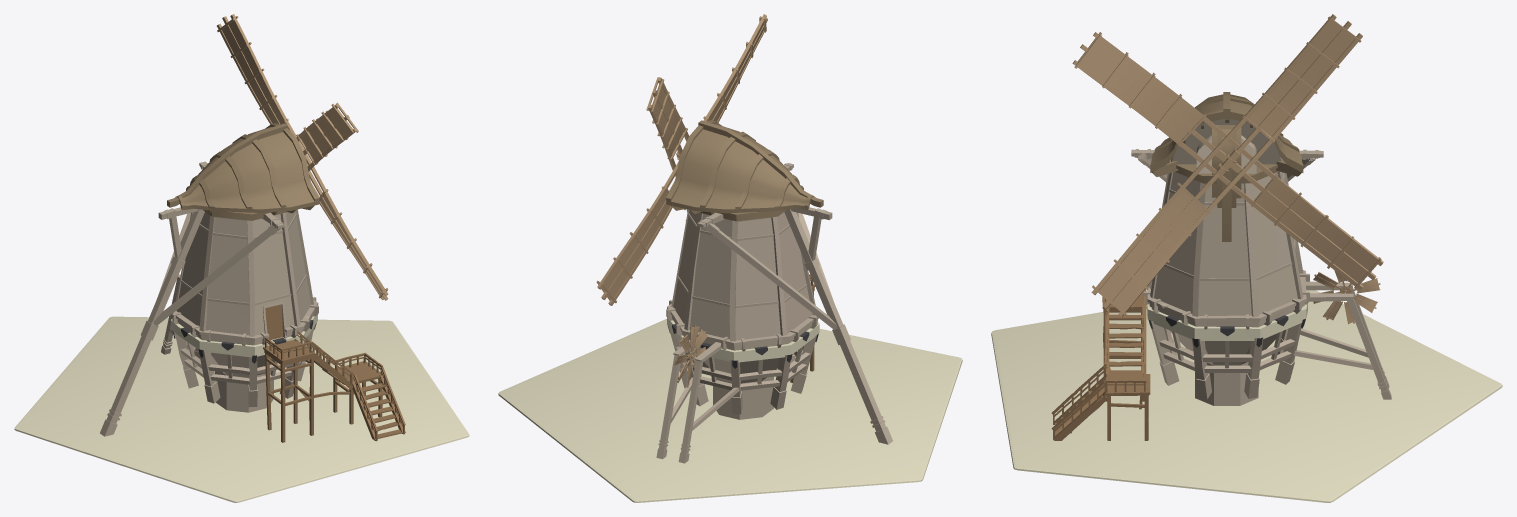
File: windmill.glb
3 views of the same model, side by side, from view 1: azimuth 30°, elevation 25°; view 2: azimuth 150°, elevation 25°; view 3: azimuth 270°, elevation 25° (orthographic). The views are drawn at different scales.
Parts seen in each view (by area): view 1: Cylinder004, Object020, 4erepiza, Box266, OporaEcht, Stolbi, Dach, Treppe 4, Object017, Object006, Treppe 1, Treppe2 (+7 smaller); view 2: Cylinder004, Object020, 4erepiza, Box266, OporaEcht, Stolbi, Dach, WEnt BOCk, Object017, Object006, Cylinder1, Object018 (+4 smaller); view 3: Cylinder004, Box266, Object020, Stolbi, Dach, WEnt BOCk, Object017, Object006, Cylinder1, Treppe 3, Treppe 1, Object018 (+7 smaller).
Boxes of the visible parts, x1=… form: Cylinder004: x1=14, y1=316, x2=469, y2=502; Object020: x1=176, y1=211, x2=311, y2=335; 4erepiza: x1=179, y1=127, x2=319, y2=212; Box266: x1=217, y1=14, x2=388, y2=300; OporaEcht: x1=100, y1=161, x2=283, y2=436; Stolbi: x1=174, y1=324, x2=315, y2=407; Dach: x1=167, y1=123, x2=319, y2=209; Treppe 4: x1=263, y1=337, x2=315, y2=442; Object017: x1=176, y1=209, x2=313, y2=336; Object006: x1=211, y1=352, x2=273, y2=412; Treppe 1: x1=352, y1=367, x2=405, y2=441; Treppe2: x1=333, y1=352, x2=382, y2=424; Cylinder004: x1=498, y1=319, x2=962, y2=502; Object020: x1=673, y1=210, x2=812, y2=340; 4erepiza: x1=666, y1=124, x2=810, y2=213; Box266: x1=596, y1=14, x2=767, y2=305; OporaEcht: x1=697, y1=163, x2=892, y2=444; Stolbi: x1=669, y1=328, x2=816, y2=414; Dach: x1=666, y1=120, x2=823, y2=209; WEnt BOCk: x1=656, y1=337, x2=740, y2=463; Object017: x1=671, y1=209, x2=815, y2=341; Object006: x1=704, y1=358, x2=779, y2=419; Cylinder1: x1=667, y1=318, x2=819, y2=362; Object018: x1=667, y1=303, x2=818, y2=350; Cylinder004: x1=991, y1=290, x2=1502, y2=502; Box266: x1=1072, y1=14, x2=1383, y2=316; Object020: x1=1154, y1=172, x2=1299, y2=315; Stolbi: x1=1151, y1=321, x2=1301, y2=399; Dach: x1=1150, y1=92, x2=1303, y2=241; WEnt BOCk: x1=1294, y1=281, x2=1391, y2=399; Object017: x1=1150, y1=171, x2=1303, y2=316; Object006: x1=1169, y1=330, x2=1283, y2=405; Cylinder1: x1=1146, y1=287, x2=1307, y2=340; Treppe 3: x1=1104, y1=296, x2=1146, y2=409; Treppe 1: x1=1051, y1=365, x2=1107, y2=440; Object018: x1=1147, y1=270, x2=1306, y2=327.
Size of what is drawn, in the model's own units: 11.9 by 10.09 by 11.59.
